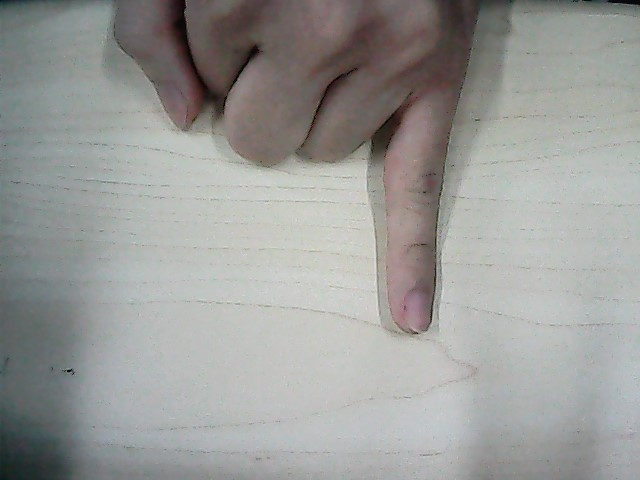nail: (406, 290, 431, 336)
